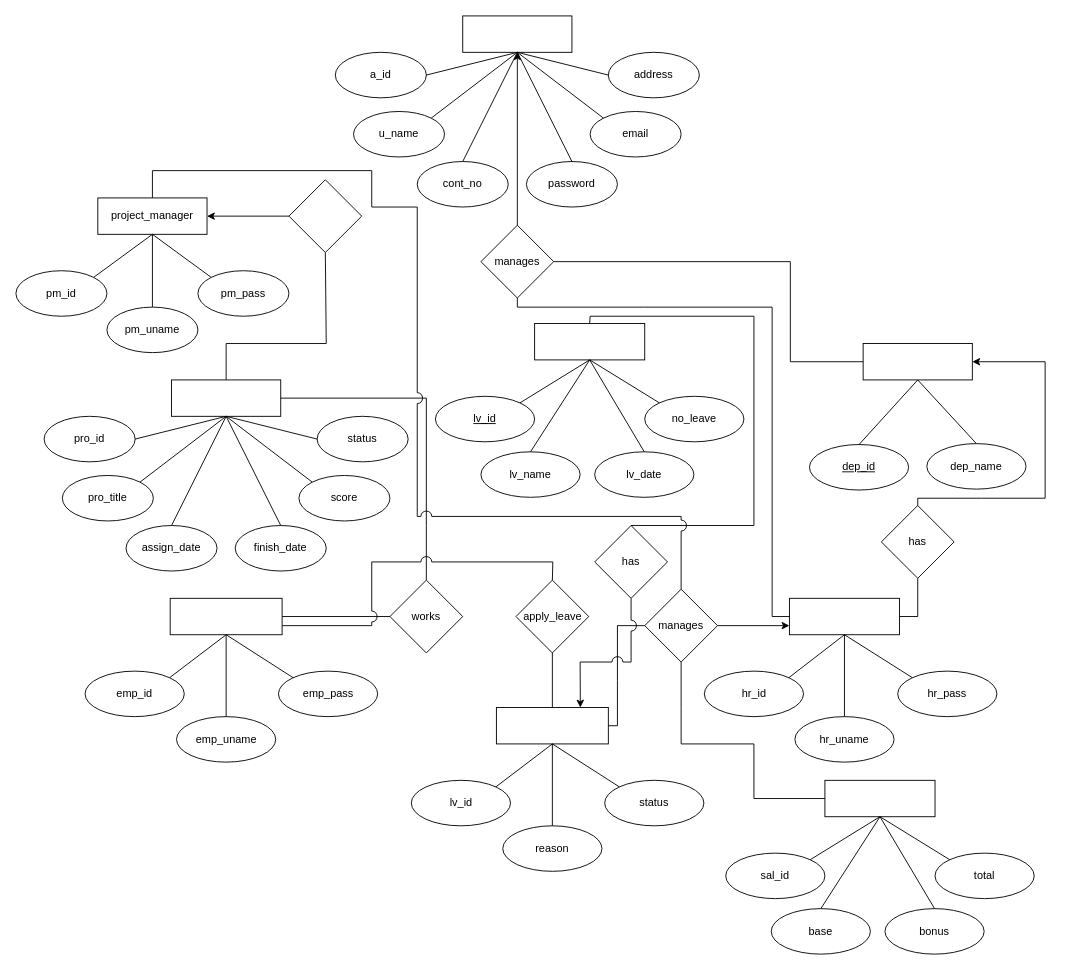
Image size: 1068x970. Some labels were removed from this diagram. Here are the shapes that lost their labels. From the top down, the centre of each, then its label:
pixel 517 33: admin
pixel 325 216: assign
pixel 589 341: leave_type
pixel 917 361: department
pixel 226 397: project
pixel 225 616: employee
pixel 844 616: human_resources
pixel 551 725: leave
pixel 879 798: salary
